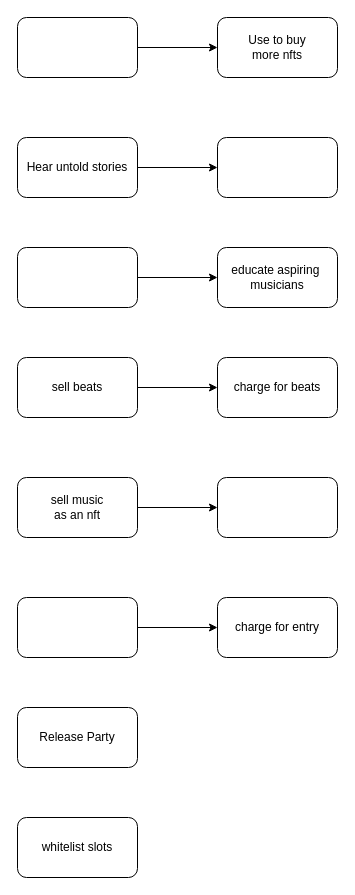
This 355x895 diagram has some shape labels left out. The centre of each missing label's shape, as x and y in pixels:
"charge for music" goes at [277,507].
"Earn RapStarByteCoins" goes at [77,47].
"hold listening parties" goes at [77,627].
"learn about the music industry" goes at [77,277].
"tell worthy stories" goes at [277,167].
